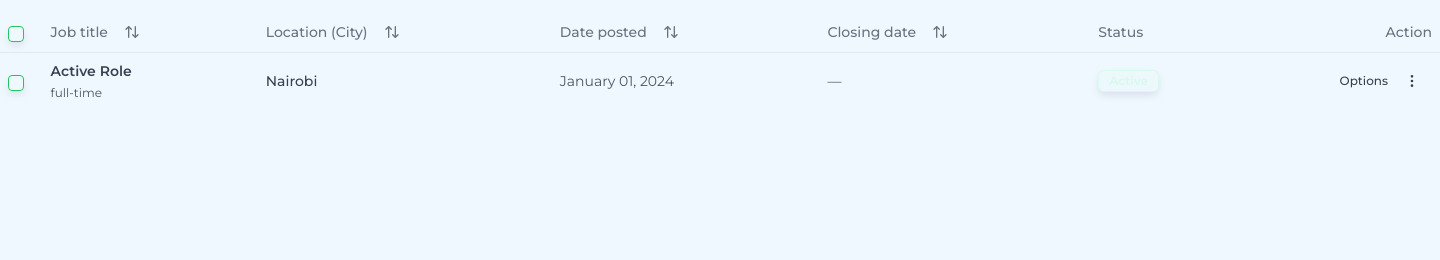
it: JobListingTable reopen action › does not offer Reopen for an active listing
Click the button "Options" at (1380, 80), box [1328,64,1432,96]
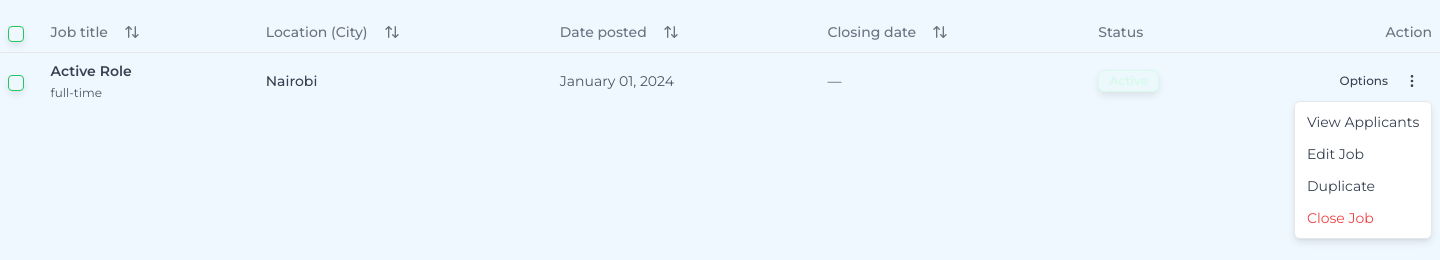
Check: the menu item "Close Job" is shown, box [1307,209,1374,227]
